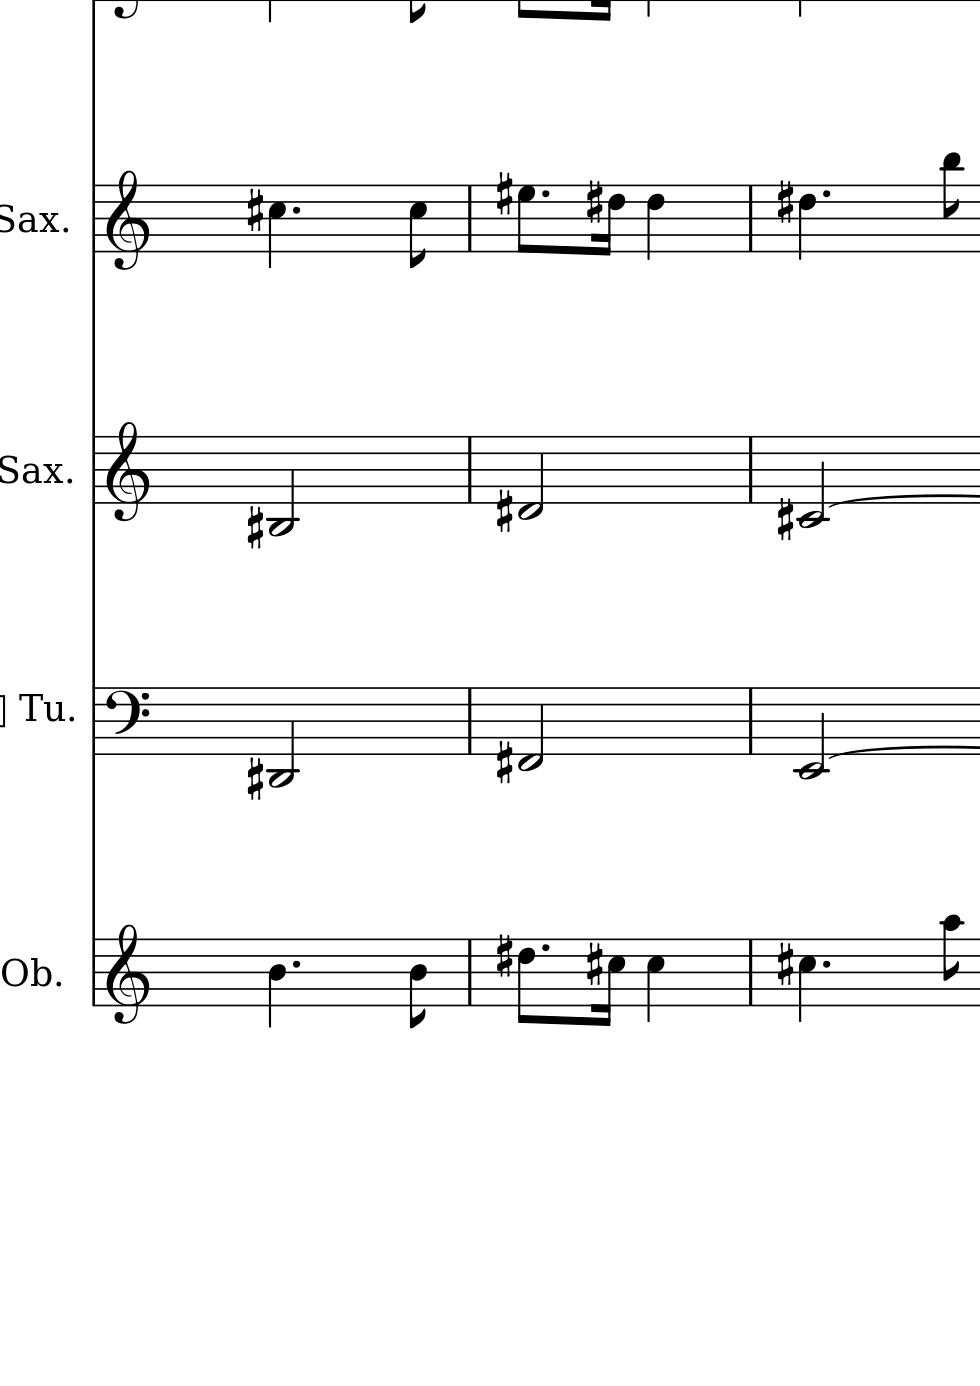16_5: (594, 938, 626, 1029)
16_6: (597, 185, 626, 258)
2_-1: (517, 433, 545, 522), (517, 685, 545, 773)
2_-2: (797, 434, 830, 531), (795, 685, 829, 783)
2_-3: (267, 434, 299, 537), (268, 685, 299, 790)
4_4: (266, 938, 287, 1030)
4_5: (644, 937, 665, 1025), (266, 183, 286, 271), (797, 937, 816, 1025)
4_6: (645, 183, 666, 261), (797, 185, 817, 262)
8_10: (940, 913, 964, 1008)
8_11: (940, 151, 964, 255)
8_4: (407, 937, 428, 1030)
8_5: (407, 183, 428, 269)
8_6: (515, 938, 536, 1027)
8_7: (515, 183, 536, 255)
Fclef: (104, 685, 151, 757)
Gclef: (104, 168, 148, 273), (105, 419, 148, 522), (105, 922, 147, 1025)
Ob: (1, 953, 52, 992)
Sax: (1, 453, 65, 492), (1, 201, 60, 240)
Sharp: (244, 186, 265, 236), (494, 932, 514, 980), (775, 940, 794, 989), (583, 178, 603, 225), (244, 505, 264, 551), (244, 756, 264, 803), (584, 940, 603, 988), (494, 171, 513, 218), (494, 487, 513, 534), (494, 738, 513, 786), (775, 178, 794, 225), (775, 496, 794, 543)
Single_barline: (461, 688, 478, 755), (742, 688, 758, 755), (461, 437, 477, 503), (742, 437, 758, 503), (86, 688, 102, 754), (742, 940, 758, 1005), (742, 186, 758, 250), (462, 938, 477, 1005), (462, 186, 477, 250), (87, 186, 101, 253), (87, 938, 101, 1006), (87, 437, 101, 504)
dot: (288, 957, 303, 971), (538, 187, 552, 201), (288, 203, 302, 217), (538, 941, 552, 955), (820, 958, 832, 971), (820, 188, 832, 200)
